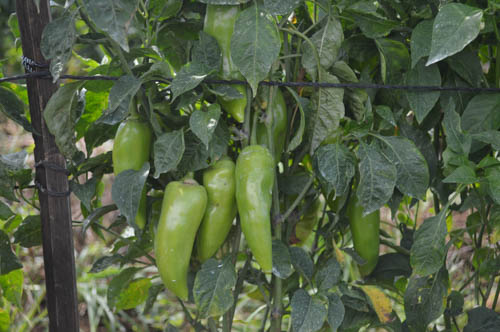ChiliPepper: (157, 183, 207, 300), (236, 148, 278, 275), (203, 7, 247, 124), (113, 121, 150, 229), (197, 159, 231, 265), (352, 195, 380, 277), (258, 95, 287, 153)
